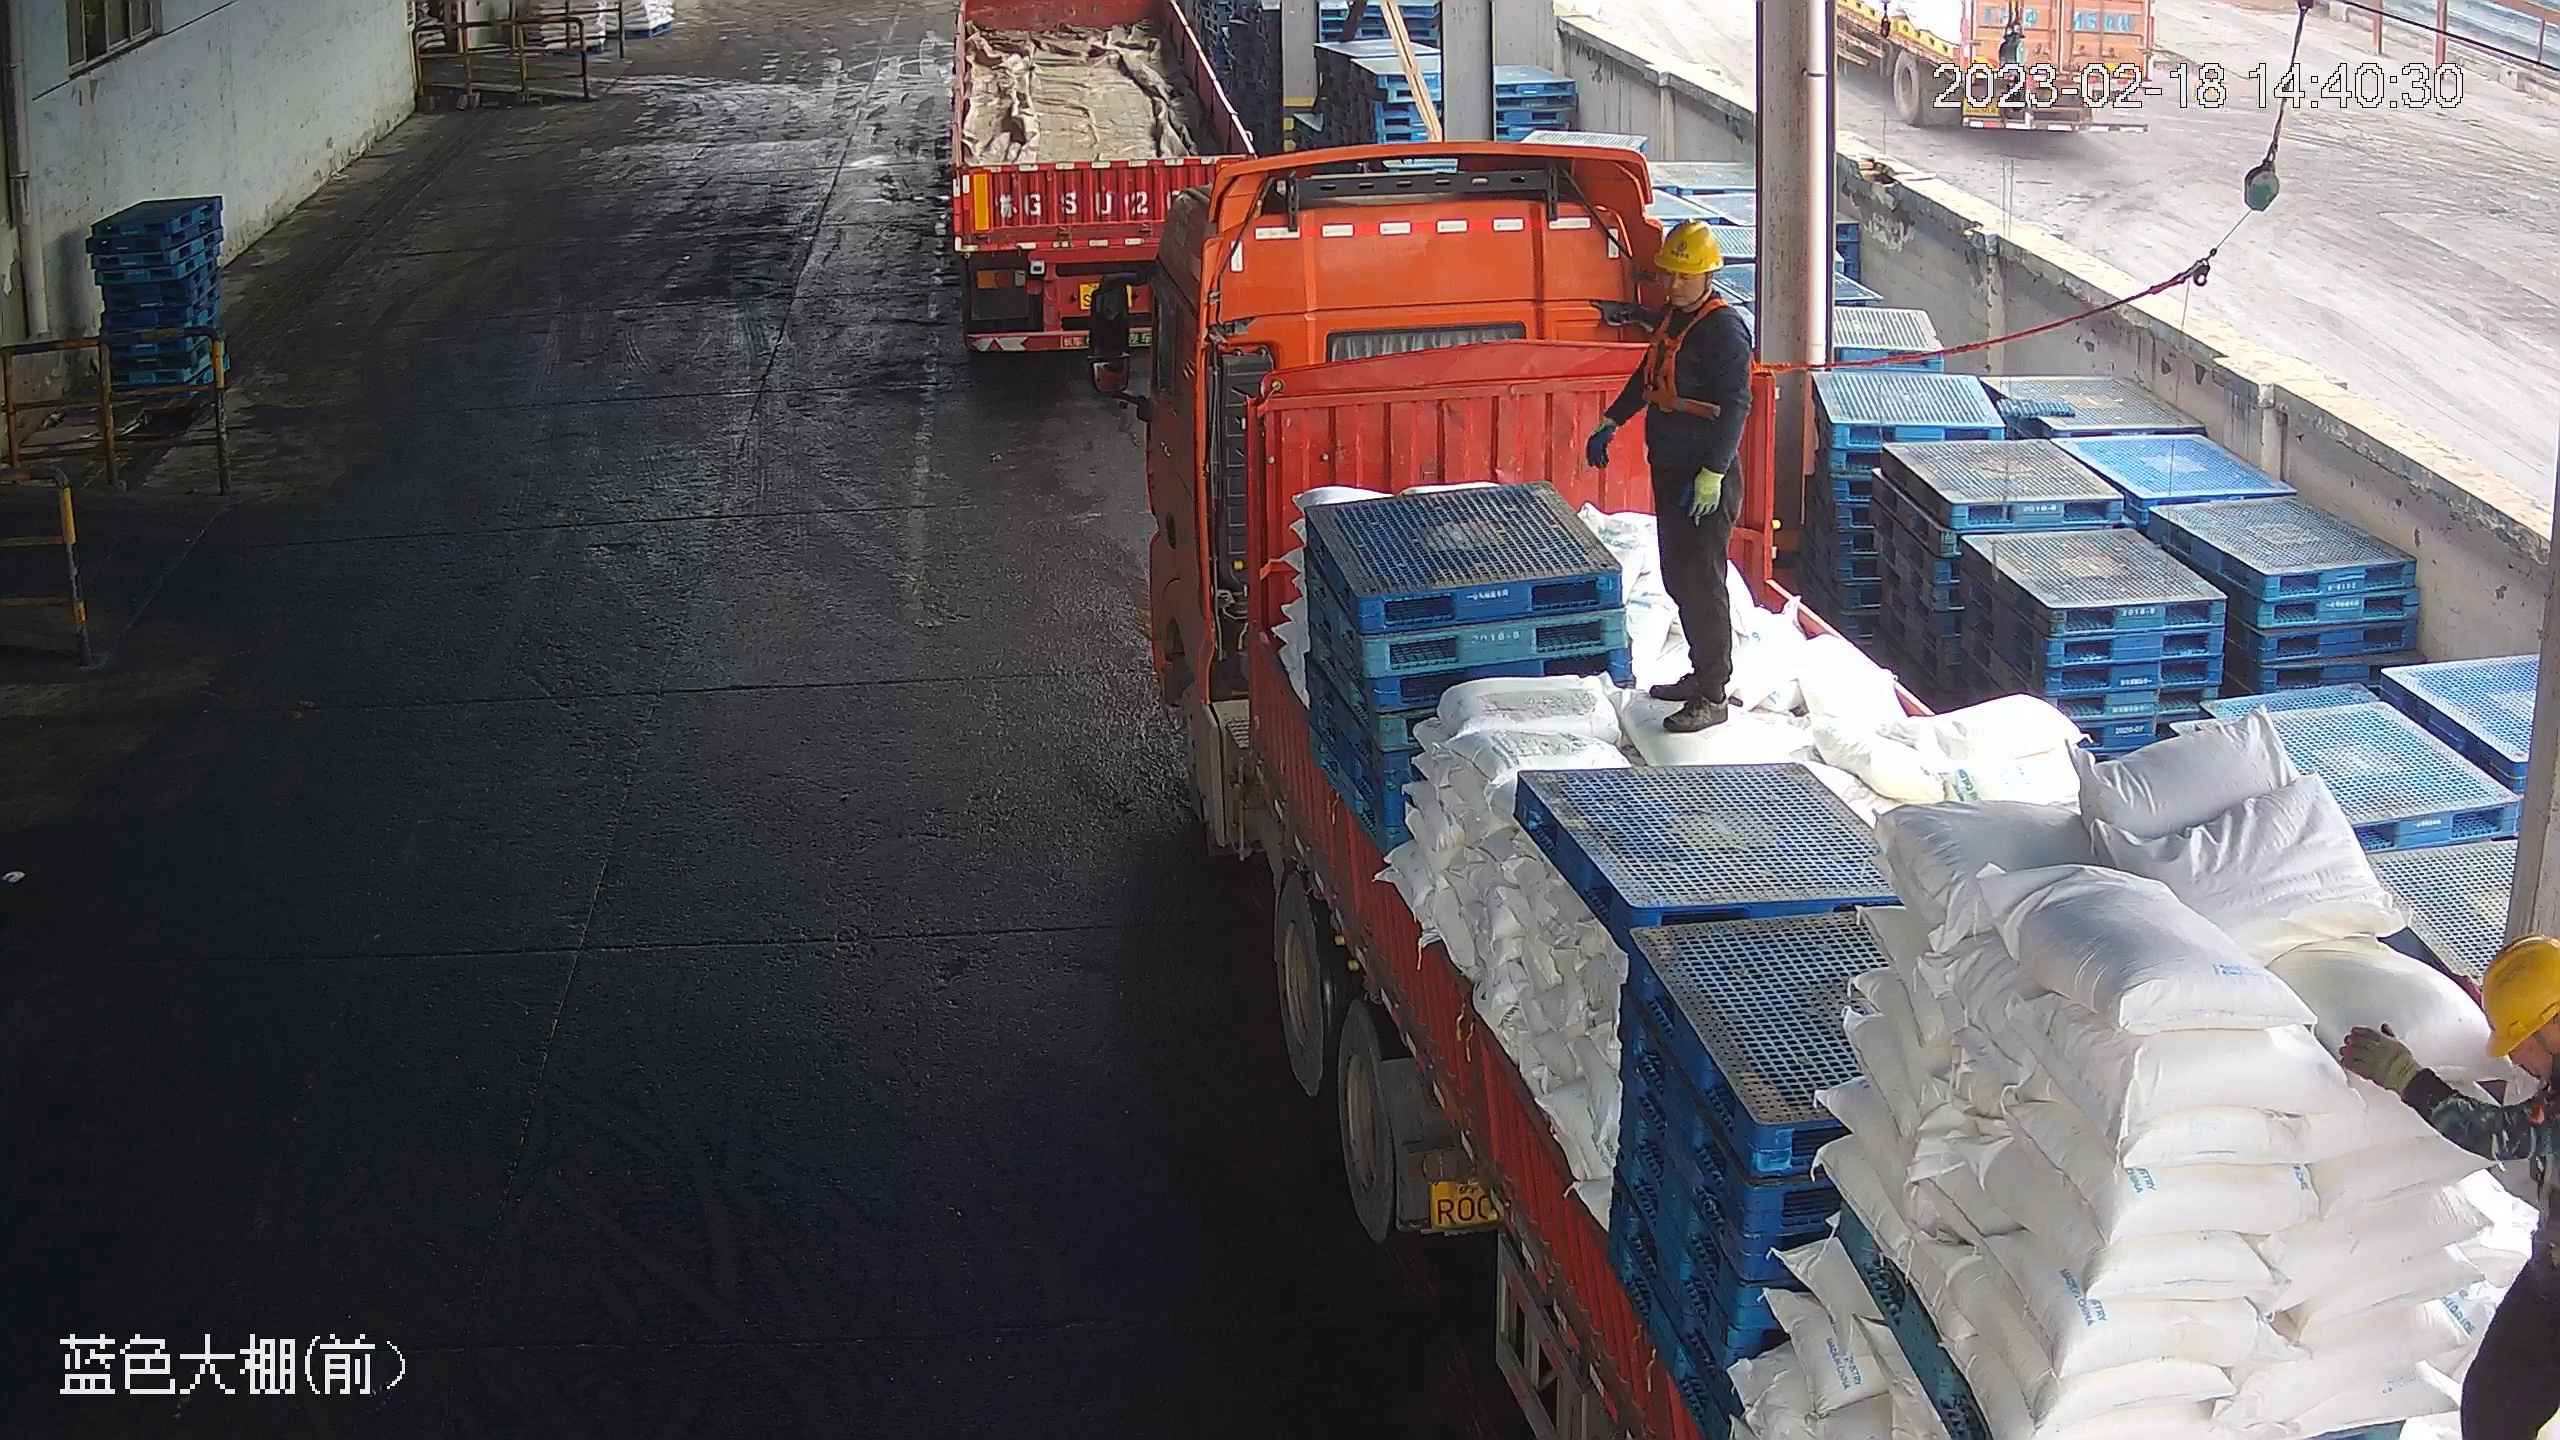belt: (1637, 299, 1750, 421)
head: (2460, 931, 2559, 1192), (1631, 220, 1759, 368)
helmet: (2477, 933, 2559, 1064), (1655, 217, 1725, 278)
people: (2337, 930, 2560, 1439), (1586, 214, 1766, 736)
truck: (1077, 165, 2556, 1439), (939, 6, 1283, 357)
